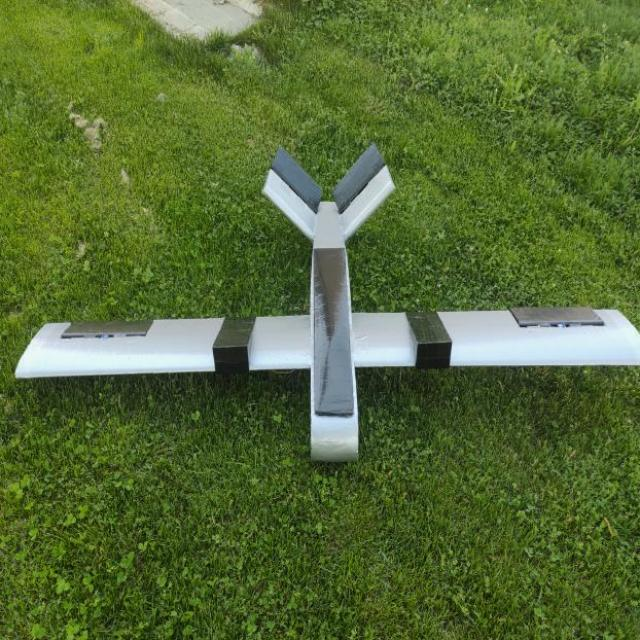plane: (13, 141, 640, 464)
